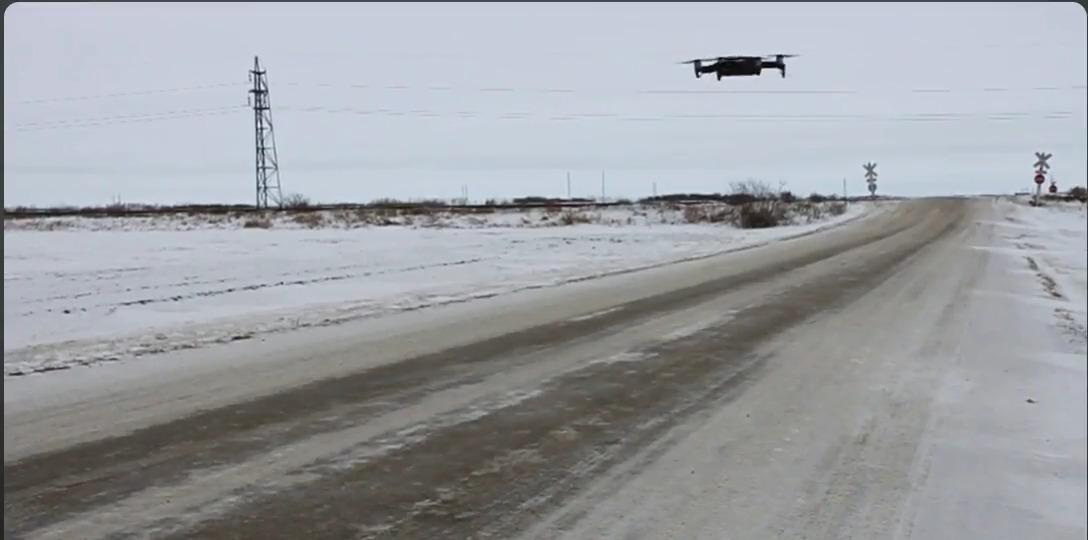dr: (670, 36, 813, 93)
